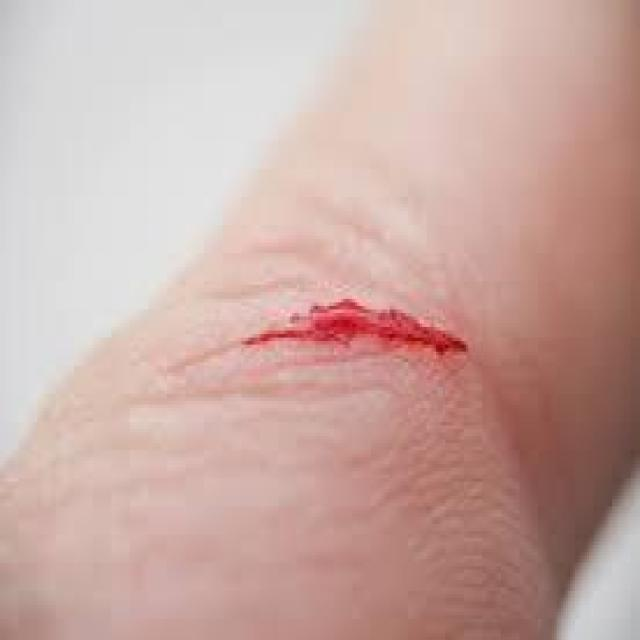flood: (240, 296, 486, 396)
